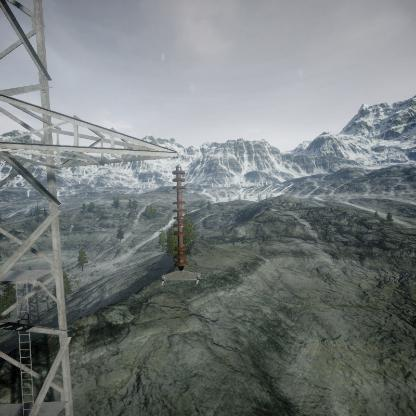insulator: (172, 163, 188, 270)
